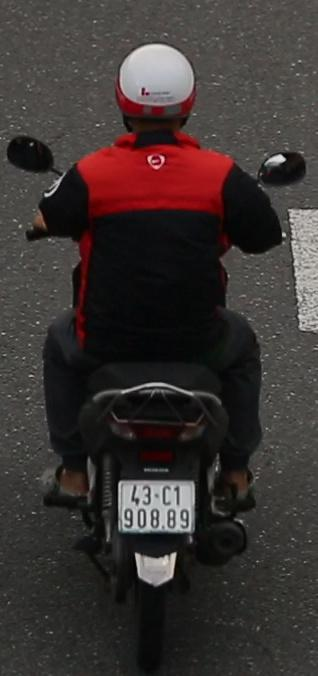LP: (115, 474, 201, 542)
helmet: (115, 37, 203, 142)
